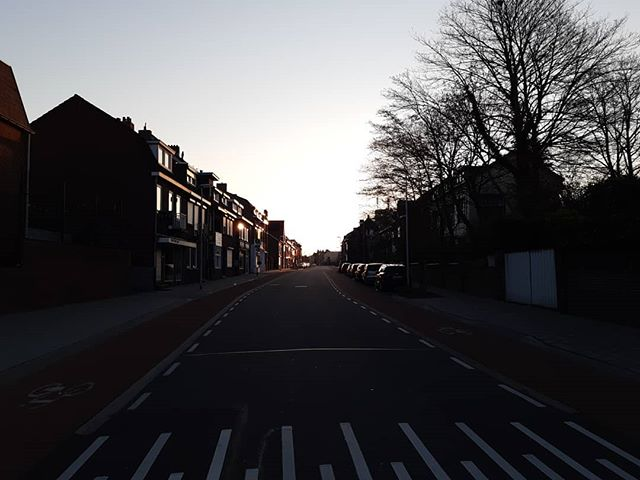building: (36, 100, 202, 286), (206, 176, 248, 277), (246, 218, 303, 268)
crosswalk: (82, 411, 624, 480)
sky: (76, 1, 395, 209)
street: (64, 271, 579, 480)
tree: (453, 1, 640, 203), (364, 83, 510, 199)
